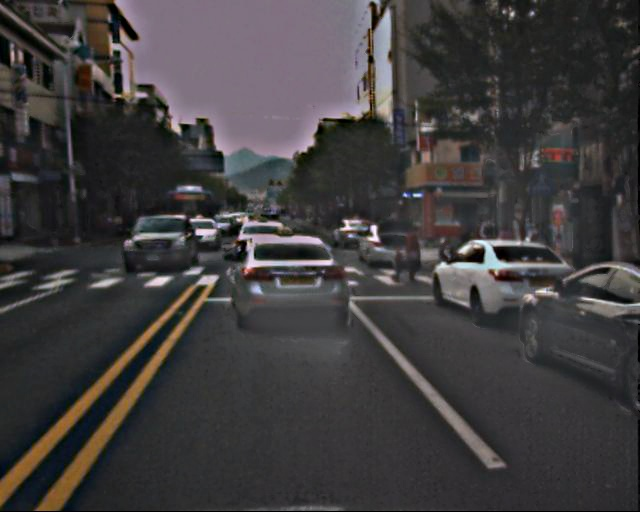person: (402, 226, 426, 285), (391, 244, 407, 284)
